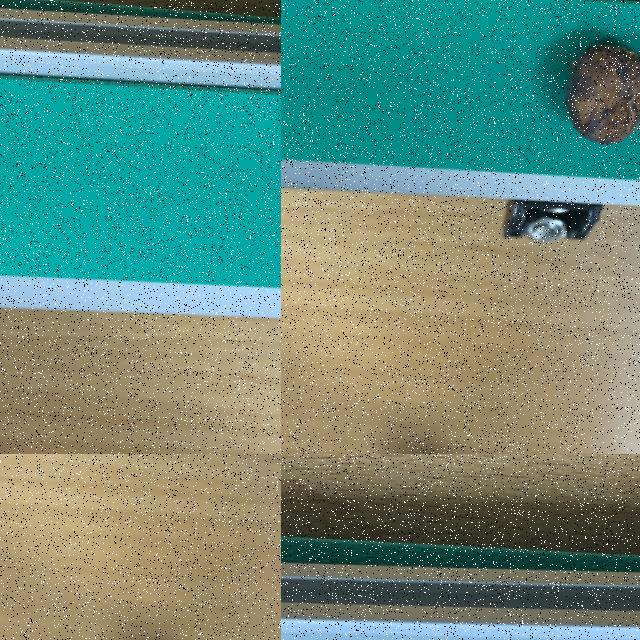Fine_cocoabeans: (427, 0, 639, 163)
